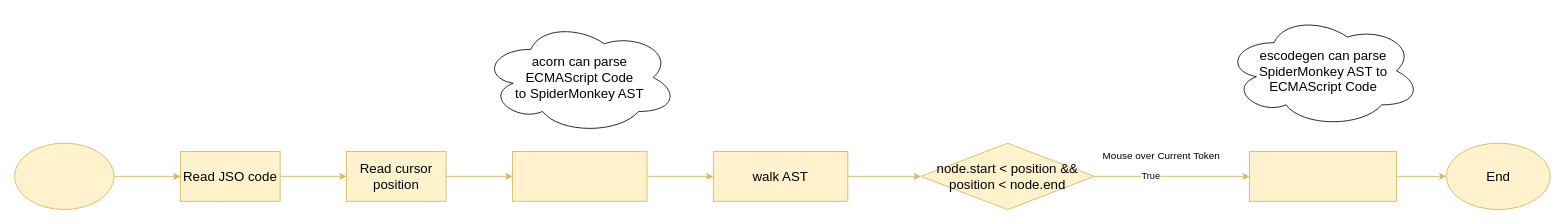
Image size: 1565x224. Some labels were removed from this diagram. The box of each missing label's shape, as (x1, y1, x2, y2) in pixels:
escodegen current node: (1249, 151, 1396, 201)
parse code to AST using acorn: (512, 151, 647, 201)
Start: (14, 142, 114, 210)
